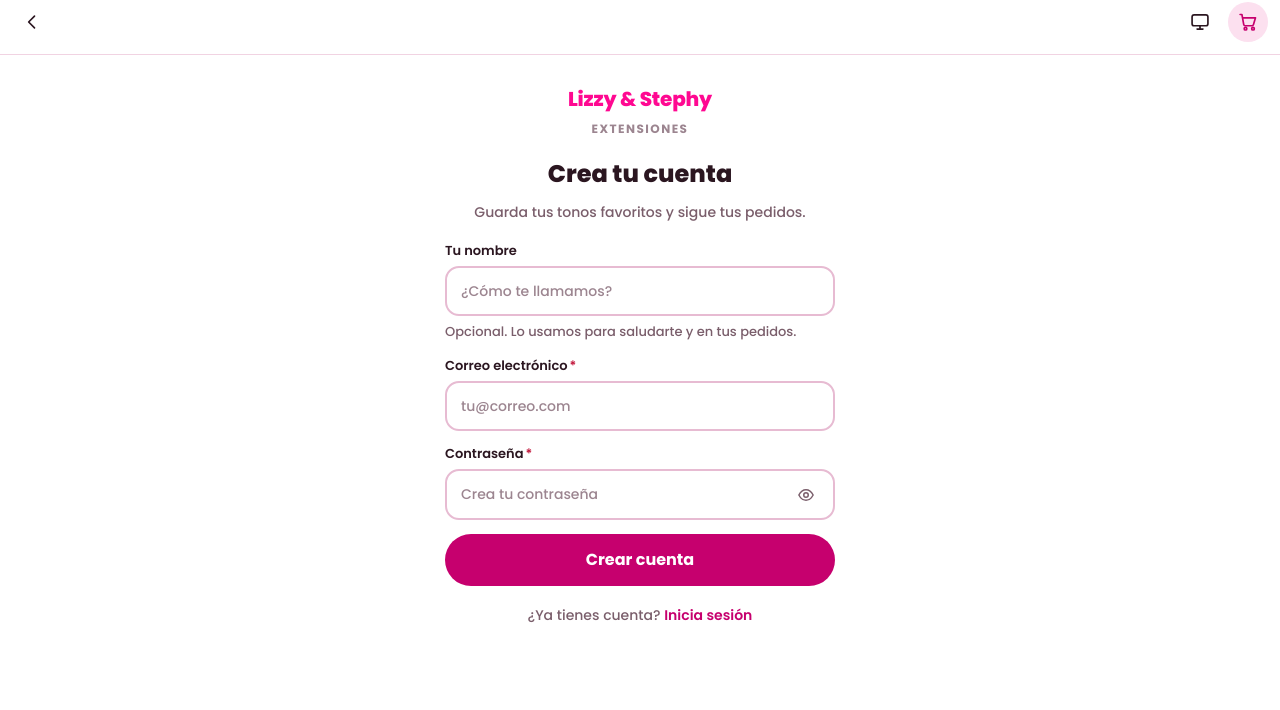
Test: RegistroCliente · envío › alta correcta: manda nombre y campo trampa vacío, y confirma antes de entrar
The width and height of the screenshot is (1280, 710).
Type "Ana Torres" into the field labelled "Tu nombre" at (640, 291), box [461,268,819,314]
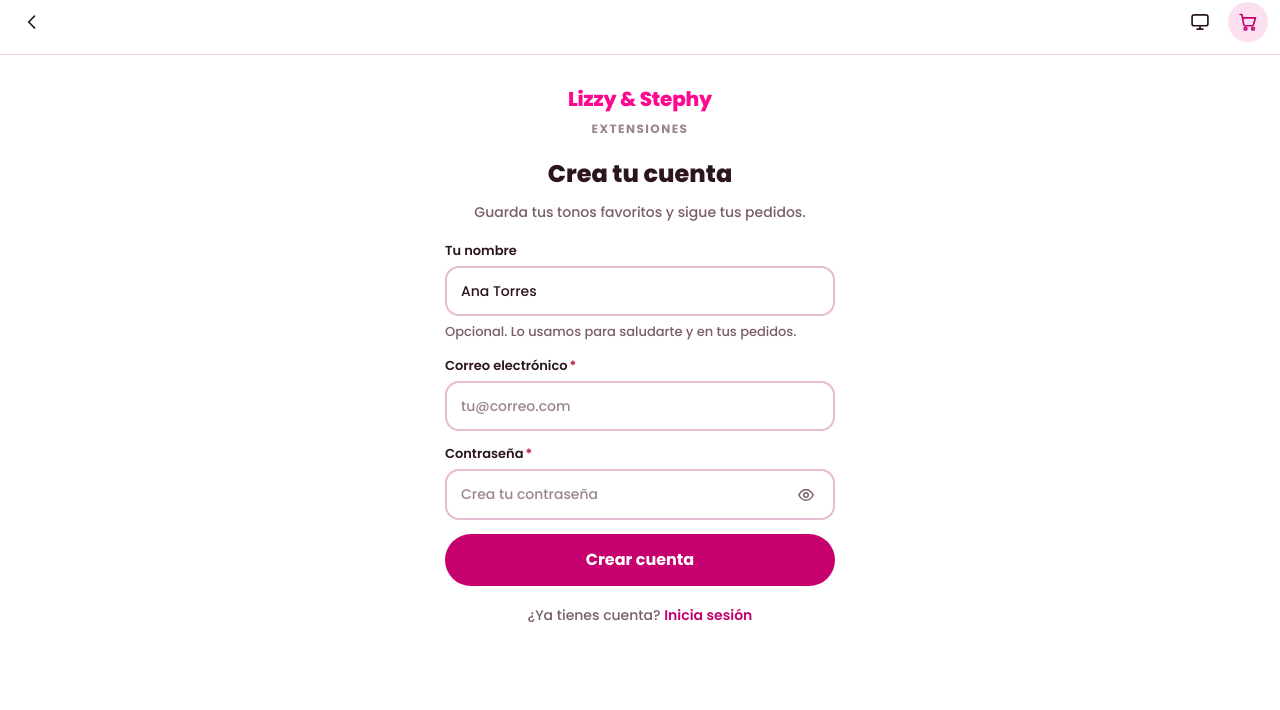
Type "ana@example.com" into the field labelled "Correo electrónico*" at (640, 406), box [461,383,819,429]
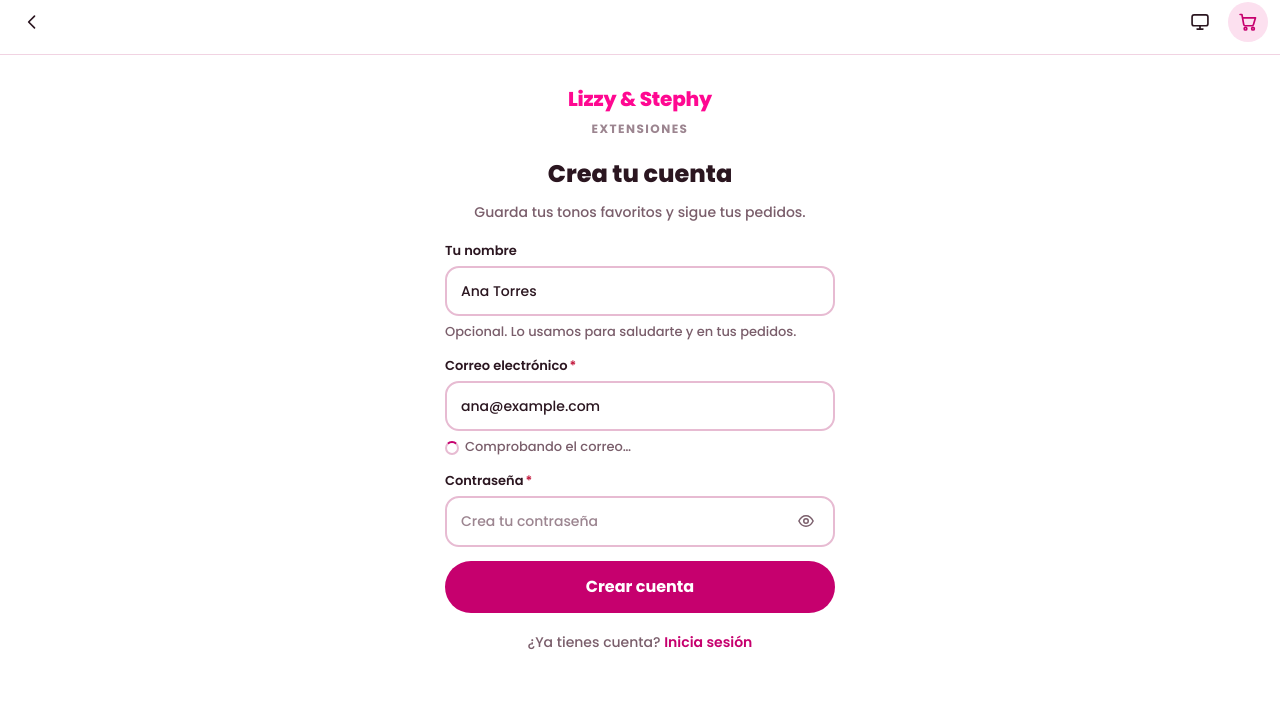
Type "bicicleta-verde-77" into the password field labelled "Contraseña*" at (623, 521), box [461,498,785,544]
(page scrolled)
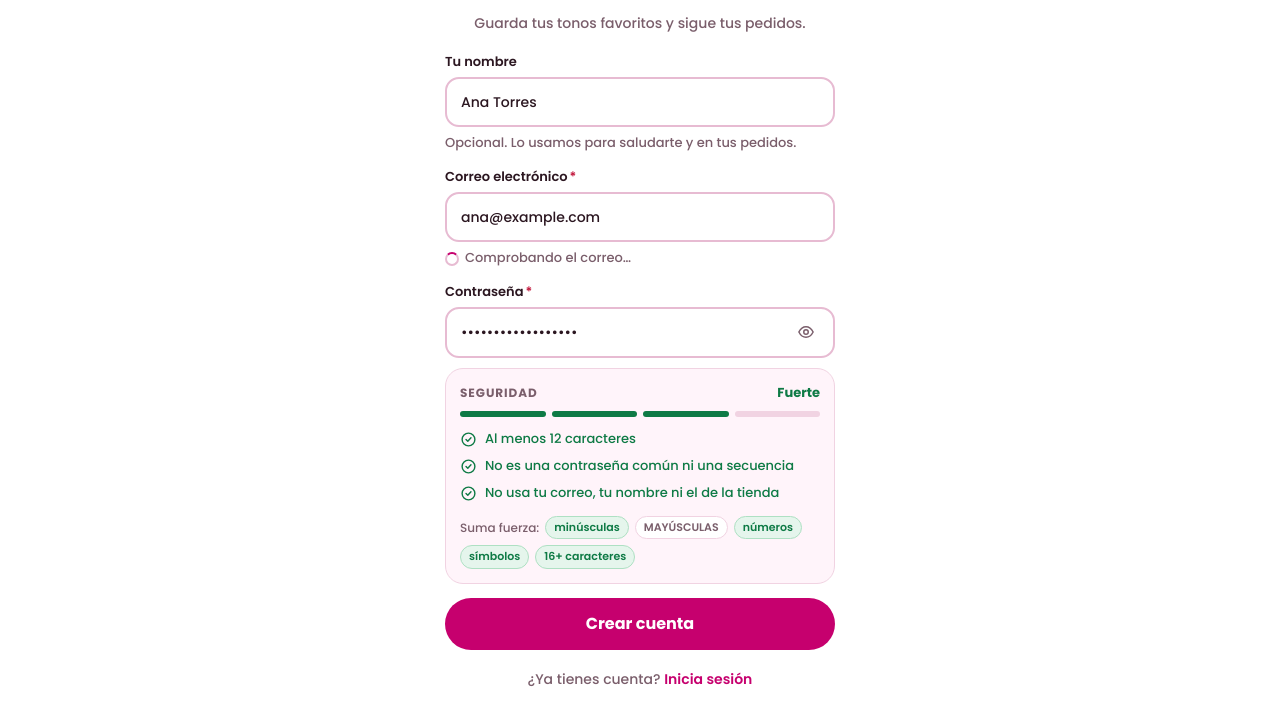
Click the button "Crear cuenta" at (640, 624), box [445,598,835,650]
(page scrolled)
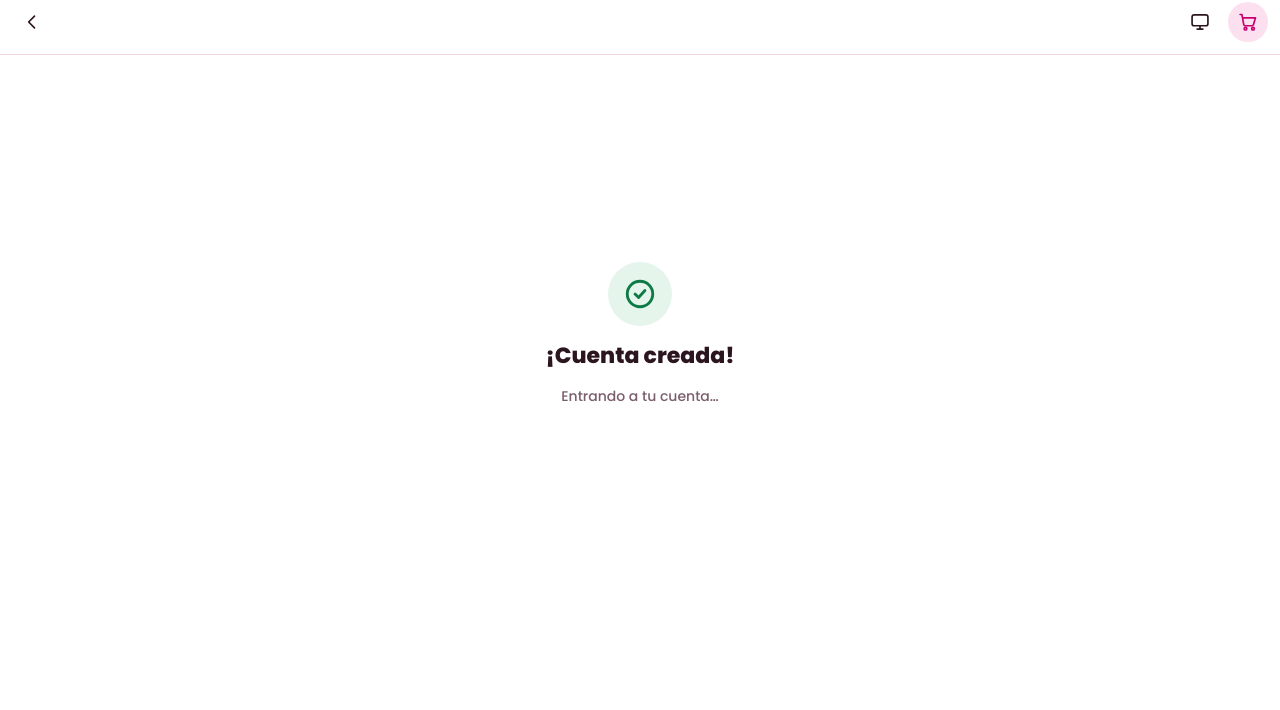
Expected: the heading "¡Cuenta creada!" is shown, [546,338,735,373]
